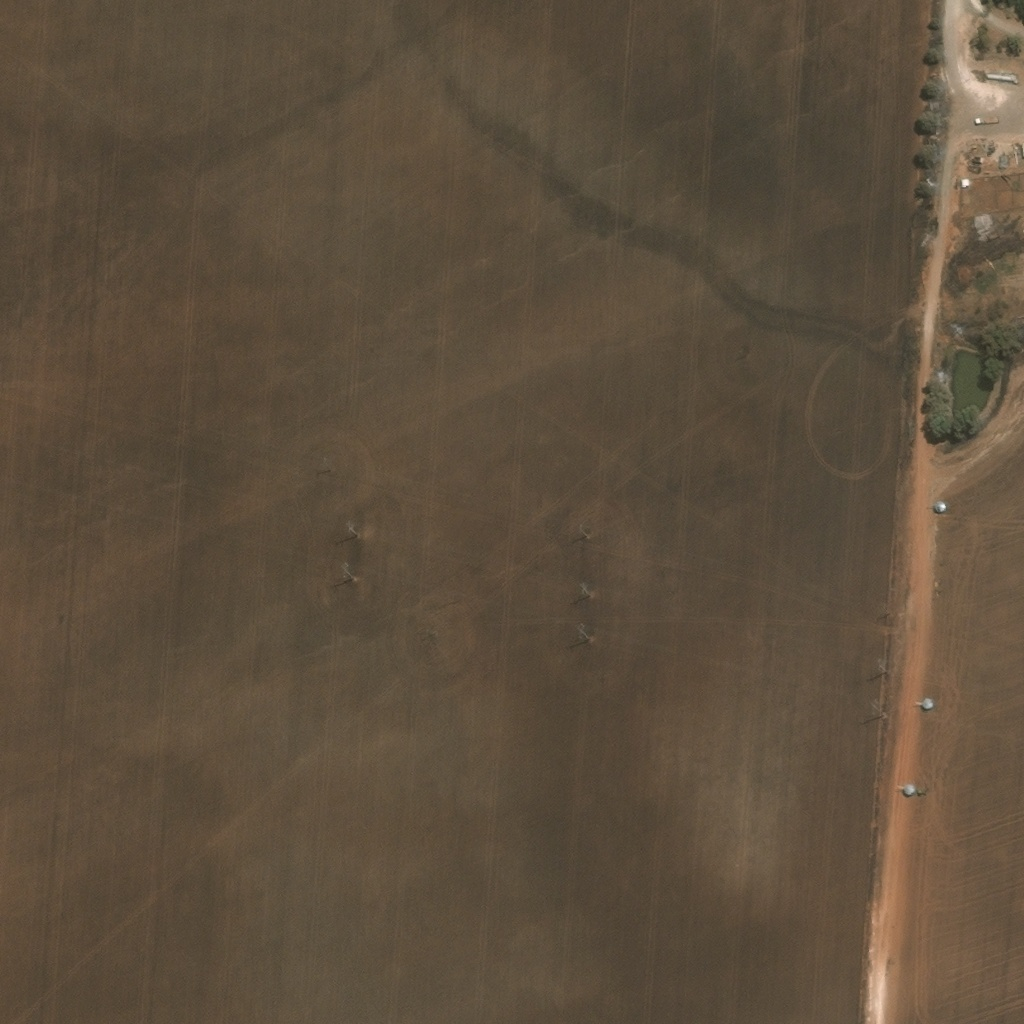0 no-damage: (985, 73, 1016, 82), (960, 178, 969, 188)
3 destroyed: (980, 232, 999, 244)
